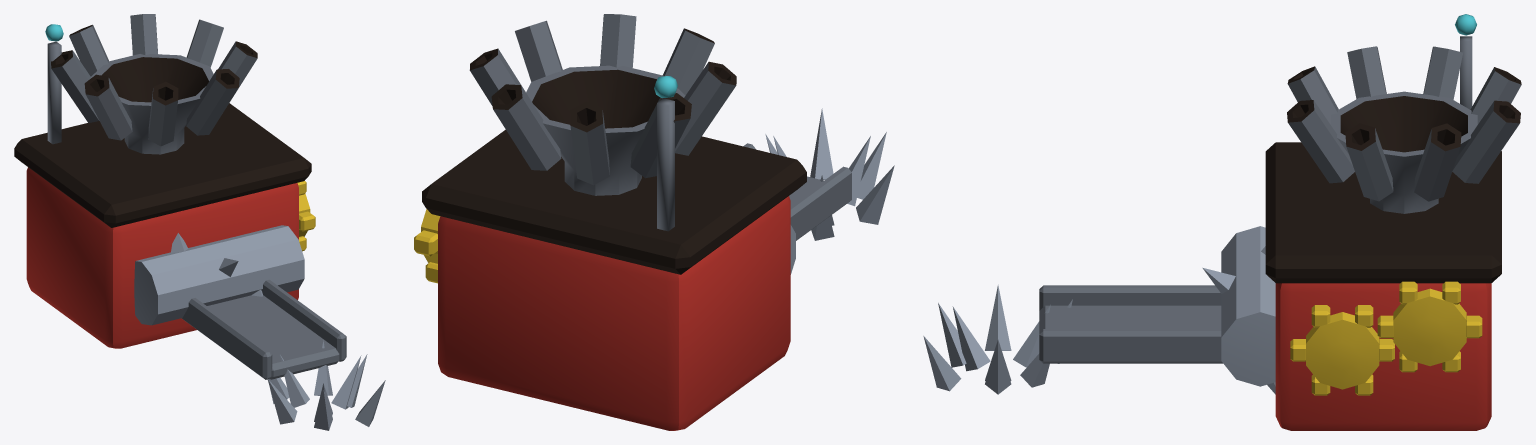
The picture shows the model from 3 angles, left to right: view 1: azimuth 30°, elevation 25°; view 2: azimuth 150°, elevation 25°; view 3: azimuth 270°, elevation 25°; orthographic projection. The views are drawn at different scales.
Parts seen in each view (by area): view 1: espinhos_0_base; view 2: espinhos_0_base; view 3: espinhos_0_base.
Part boxes in pixels (x1,y1,x2,y2): espinhos_0_base: (14, 14, 385, 430); espinhos_0_base: (414, 14, 894, 430); espinhos_0_base: (923, 14, 1521, 430).
Size of the model in its own units: 0.596 by 0.6918 by 1.16.
